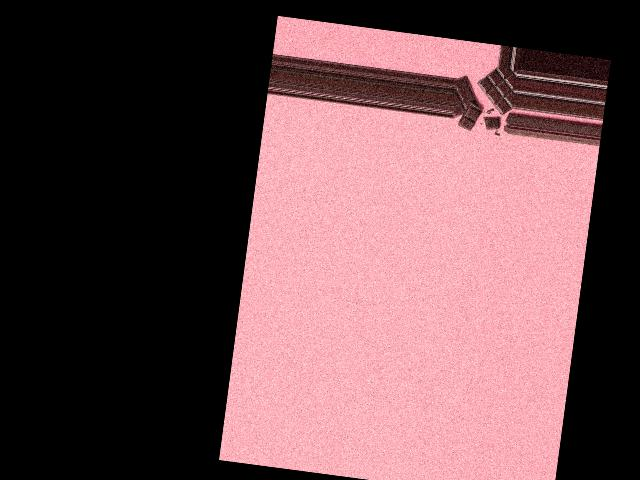chocolate: (455, 61, 517, 131)
